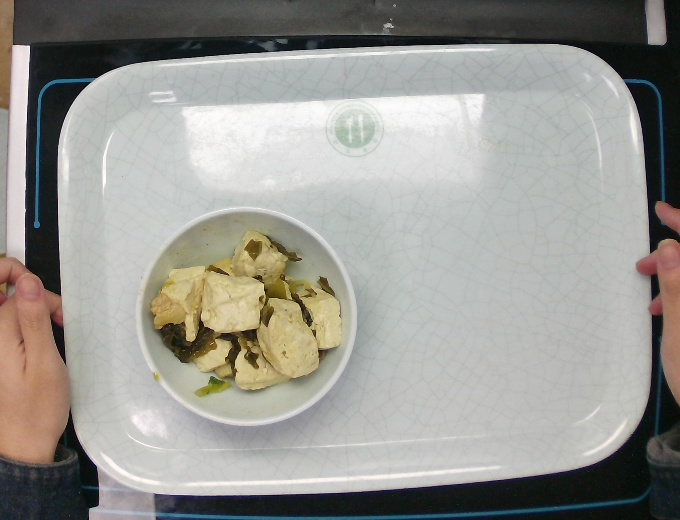JYsf-Fan_Wan: (137, 205, 361, 429)
